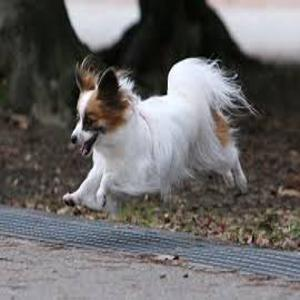yell: (62, 57, 247, 213)
